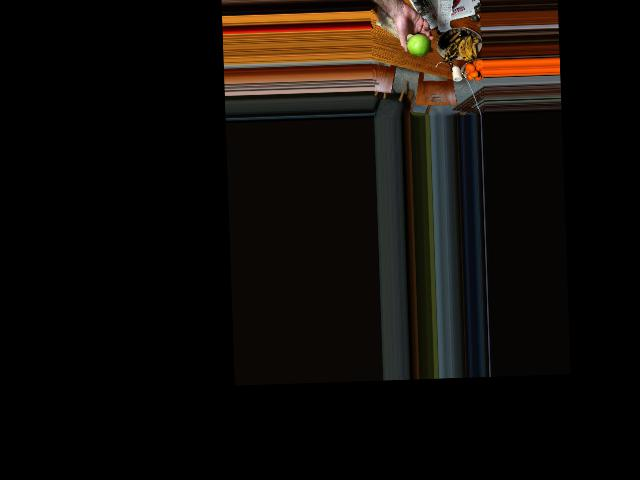apple: (404, 31, 431, 58)
